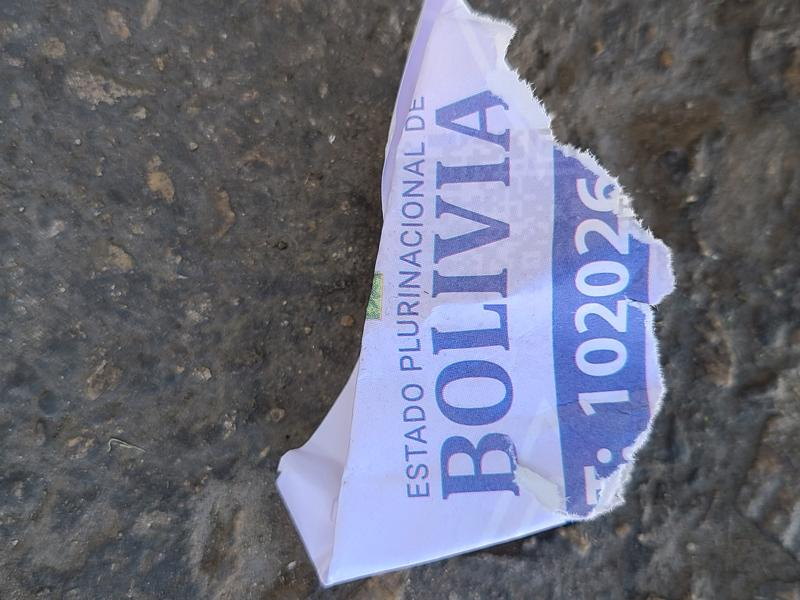papel: (275, 0, 674, 590)
